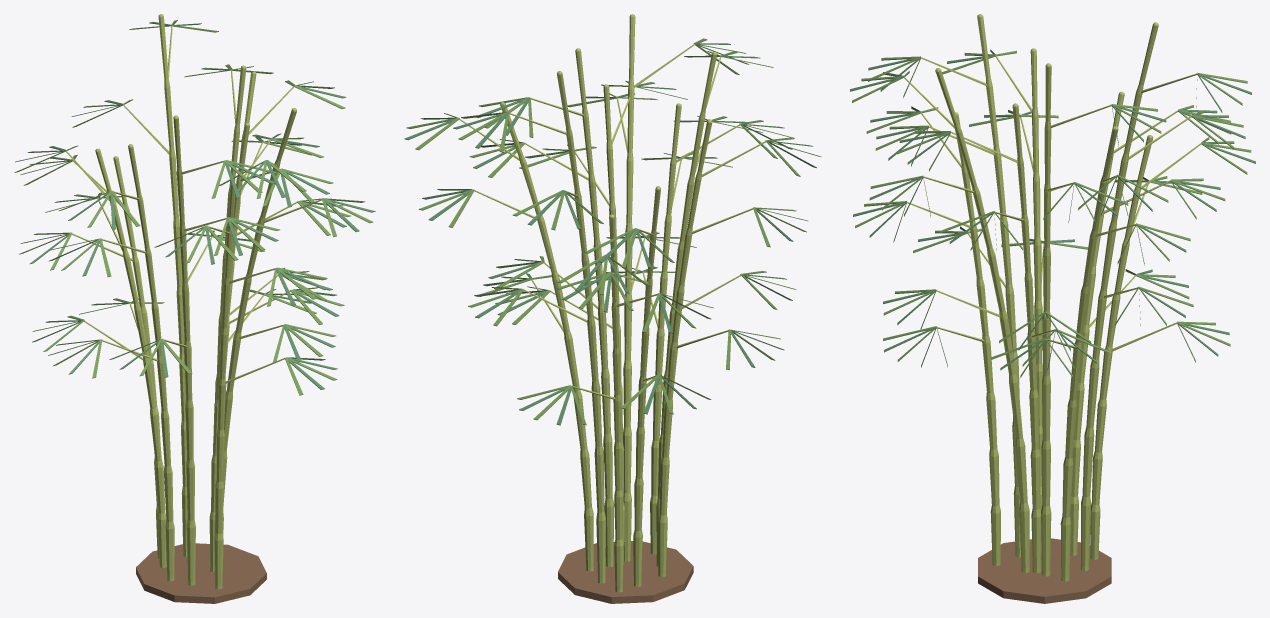
File: PLANT_07.obj
The picture shows the model from 3 angles, left to right: view 1: azimuth 30°, elevation 25°; view 2: azimuth 150°, elevation 25°; view 3: azimuth 270°, elevation 25°; orthographic projection. The views are drawn at different scales.
Parts seen in each view (by area): view 1: leaves, soil, stem_5, branches, stem_9, stem_6, stem_4, stem_7, stem_3, stem_2, stem_8, stem_1 (+1 smaller); view 2: leaves, soil, stem_9, stem_3, stem_1, branches, stem_10, stem_6, stem_4, stem_7, stem_8, stem_5 (+1 smaller); view 3: leaves, soil, stem_9, stem_3, stem_1, branches, stem_2, stem_10, stem_4, stem_8, stem_5, stem_6 (+1 smaller).
Part boxes in pixels (x1,y1,x2,y2): leaves: (14,20,375,395); soil: (136,543,266,603); stem_5: (173,115,195,585); branches: (65,25,321,383); stem_9: (158,14,187,556); stem_6: (128,144,174,581); stem_4: (214,183,235,589); stem_7: (95,148,166,567); stem_3: (214,108,296,575); stem_2: (209,123,249,572); stem_8: (113,156,162,558); stem_1: (213,65,246,446); leaves: (404,38,821,425); soil: (558,541,693,603); stem_9: (557,71,605,583); stem_3: (623,14,635,561); stem_1: (575,48,614,567); branches: (459,44,766,399); stem_10: (500,102,593,571); stem_6: (658,119,712,577); stem_4: (650,103,681,554); stem_7: (633,186,660,586); stem_8: (609,214,623,592); stem_5: (656,51,717,566); leaves: (850,49,1255,377); soil: (978,538,1111,603); stem_9: (1080,22,1158,570); stem_3: (935,68,1029,572); stem_1: (1041,63,1051,576); branches: (904,55,1201,351); stem_2: (1012,103,1041,573); stem_10: (1060,126,1118,581); stem_4: (955,112,1000,566); stem_8: (1090,135,1153,559); stem_5: (977,14,1020,557); stem_6: (1030,48,1042,550).
Size of the model in its own units: 5.23 by 7.87 by 5.19.
